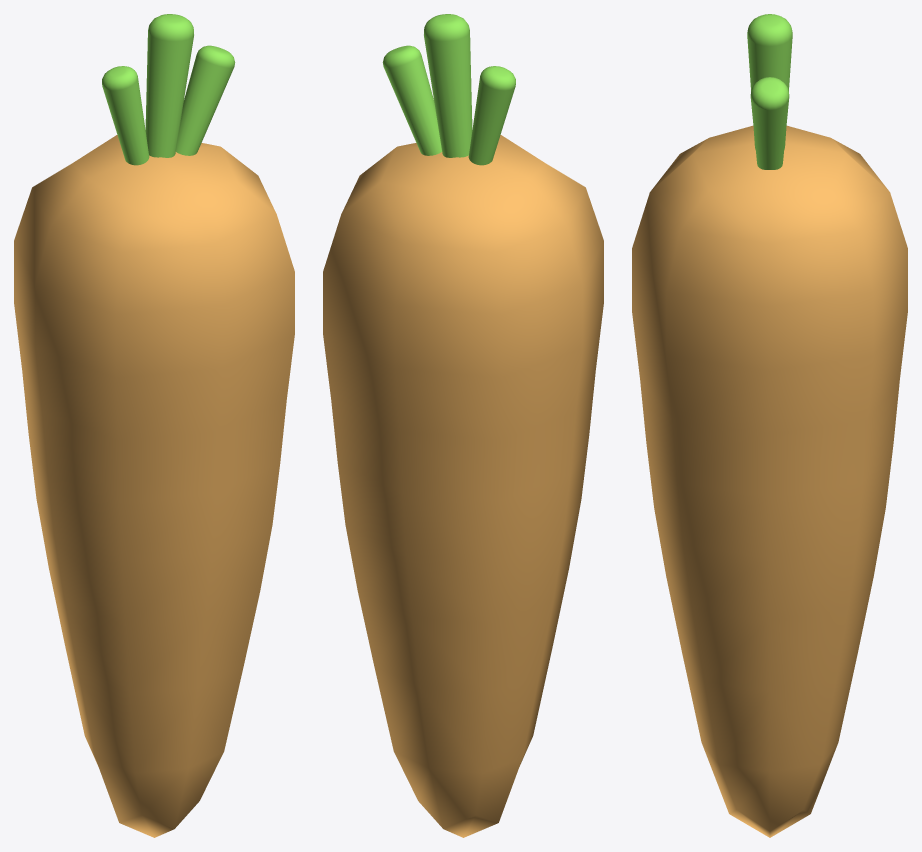
File: 胡萝卜，静态图(1).fbx
3 views of the same model, side by side, from view 1: azimuth 30°, elevation 25°; view 2: azimuth 150°, elevation 25°; view 3: azimuth 270°, elevation 25° (orthographic).
Parts seen in each view (by area): view 1: pCube1, pCylinder2, pCylinder3, pCylinder1; view 2: pCube1, pCylinder2, pCylinder3, pCylinder1; view 3: pCube1, pCylinder3, pCylinder2.
Boxes of the visible parts, x1,y1,x2,y2 form: pCube1: (14,135,294,837); pCylinder2: (145,14,193,157); pCylinder3: (176,45,235,155); pCylinder1: (102,66,149,165); pCube1: (323,135,603,837); pCylinder2: (424,14,472,157); pCylinder3: (382,45,441,155); pCylinder1: (468,66,515,165); pCube1: (632,125,907,837); pCylinder3: (750,77,789,169); pCylinder2: (747,14,792,149).
Bounding box in the file's own units: 0.5983 × 1.96 × 0.5916.
